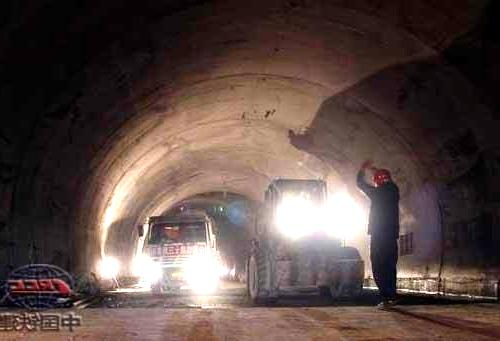helmet: (372, 168, 393, 188)
